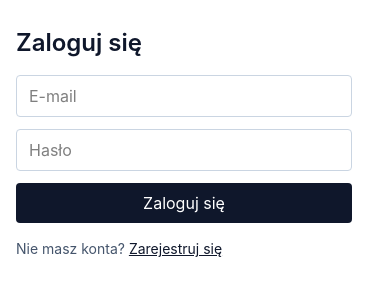
Test: LoginPage › shows a server error message on failed login
In the field with placeholder "E-mail": (184, 96) x1=16 y1=75 x2=352 y2=117, type "user@example.com"
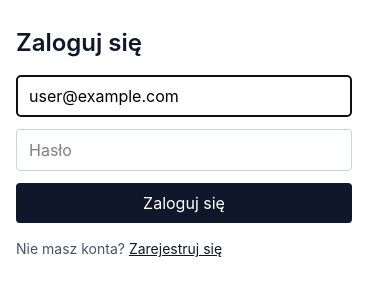
In the password field with placeholder "Hasło": (184, 150) x1=16 y1=129 x2=352 y2=171, type "wrong-password"
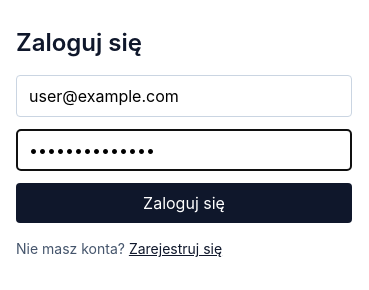
Click the button "Zaloguj się": (184, 203) x1=16 y1=183 x2=352 y2=223
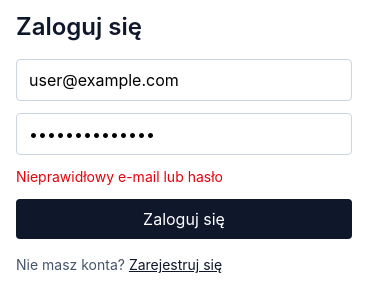
Result: the text "Nieprawidłowy e-mail lub hasło" is shown at x1=16 y1=168 x2=223 y2=185
